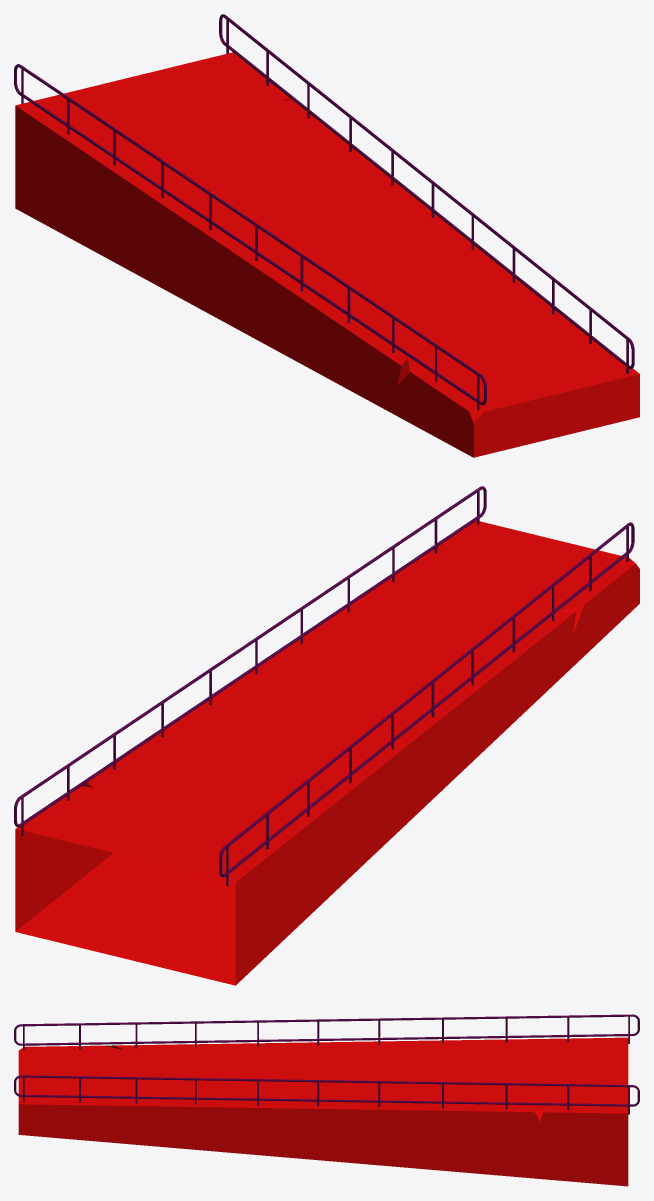
Rendered from Tuto_Cliff_Extention.fbx.
3 renders of one model, top to bottom at view 1: azimuth 30°, elevation 25°; view 2: azimuth 150°, elevation 25°; view 3: azimuth 270°, elevation 25°, orthographic. The views are drawn at different scales.
Parts seen in each view (by area): view 1: Tutorial_Cliffs, Tutorial_Railing_7; view 2: Tutorial_Cliffs, Tutorial_Railing_7; view 3: Tutorial_Cliffs, Tutorial_Railing_7.
Boxes of the visible parts, left/top/right/bottom form: Tutorial_Cliffs: left=15, top=52, right=639, bottom=457; Tutorial_Railing_7: left=14, top=14, right=634, bottom=410; Tutorial_Cliffs: left=15, top=520, right=639, bottom=985; Tutorial_Railing_7: left=14, top=486, right=634, bottom=886; Tutorial_Cliffs: left=18, top=1037, right=628, bottom=1186; Tutorial_Railing_7: left=14, top=1014, right=639, bottom=1114.
Size of the model in its own units: 494 by 299 by 1719.
